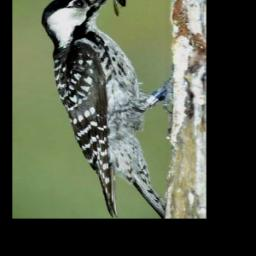Woodpecker: (42, 0, 175, 218)
